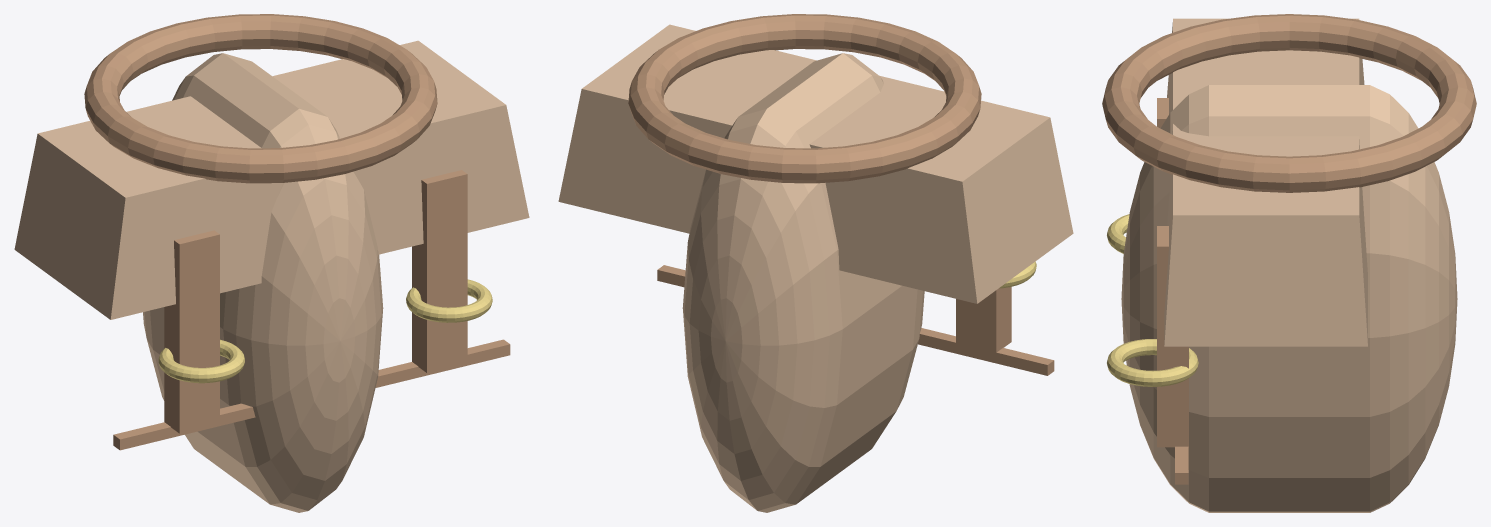
Rendered from bag_esencial.glb.
The picture shows the model from 3 angles, left to right: view 1: azimuth 30°, elevation 25°; view 2: azimuth 150°, elevation 25°; view 3: azimuth 270°, elevation 25°; orthographic projection. The views are drawn at different scales.
Visible parts, largest first — view 1: Flap, BagBody, Handle, Strap0.26, Strap-0.26, Seam, Buckle0.26, Buckle-0.26; view 2: BagBody, Flap, Handle, Strap-0.26, Seam; view 3: BagBody, Flap, Handle, Strap0.26, Buckle0.26, Buckle-0.26, Seam.
Boxes of the visible parts, left/top/right/bottom form: Flap: left=14, top=40, right=529, bottom=319; BagBody: left=143, top=53, right=383, bottom=512; Handle: left=84, top=14, right=437, bottom=183; Strap0.26: left=412, top=170, right=467, bottom=373; Strap-0.26: left=164, top=230, right=219, bottom=433; Seam: left=113, top=339, right=510, bottom=450; Buckle0.26: left=406, top=279, right=492, bottom=322; Buckle-0.26: left=158, top=339, right=244, bottom=383; BagBody: left=682, top=53, right=924, bottom=512; Flap: left=558, top=24, right=1073, bottom=303; Handle: left=628, top=14, right=981, bottom=183; Strap-0.26: left=956, top=287, right=1011, bottom=352; Seam: left=657, top=265, right=1054, bottom=375; BagBody: left=1121, top=85, right=1457, bottom=512; Flap: left=1164, top=18, right=1367, bottom=346; Handle: left=1102, top=14, right=1476, bottom=192; Strap0.26: left=1157, top=226, right=1188, bottom=447; Buckle0.26: left=1107, top=339, right=1198, bottom=386; Buckle-0.26: left=1107, top=214, right=1129, bottom=253; Seam: left=1175, top=446, right=1188, bottom=484.
Bounding box in the file's own units: 0.88 × 0.8115 × 0.644.
